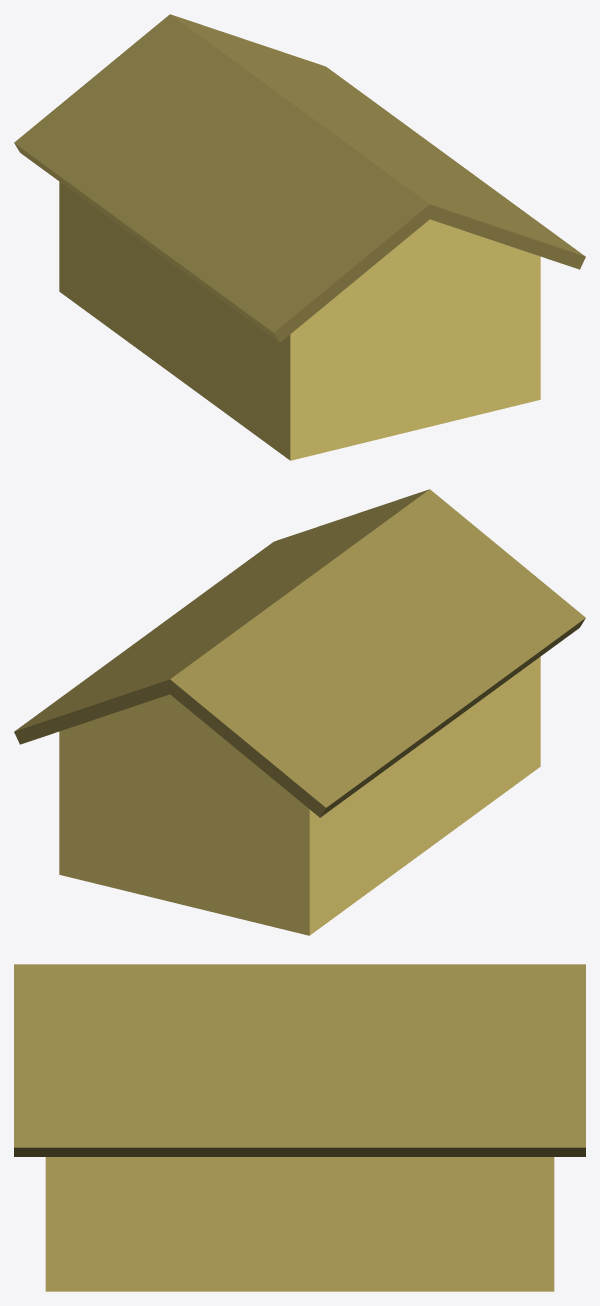
The model's file is result.glb.
3 renders of one model, top to bottom at view 1: azimuth 30°, elevation 25°; view 2: azimuth 150°, elevation 25°; view 3: azimuth 270°, elevation 25°, orthographic. The views are drawn at different scales.
Parts seen in each view (by area): view 1: c56918a5-b23b-46a8-a42c-6b06b266089d__undefined (×2), 870455a4-9649-4b2f-9685-bf3d6446c3de__undefined; view 2: c56918a5-b23b-46a8-a42c-6b06b266089d__undefined (×2), 870455a4-9649-4b2f-9685-bf3d6446c3de__undefined; view 3: c56918a5-b23b-46a8-a42c-6b06b266089d__undefined, 870455a4-9649-4b2f-9685-bf3d6446c3de__undefined.
Boxes of the visible parts, x1,y1,x2,y2 form: c56918a5-b23b-46a8-a42c-6b06b266089d__undefined (×2): [14, 14, 585, 342]; 870455a4-9649-4b2f-9685-bf3d6446c3de__undefined: [59, 182, 540, 460]; c56918a5-b23b-46a8-a42c-6b06b266089d__undefined (×2): [14, 489, 585, 817]; 870455a4-9649-4b2f-9685-bf3d6446c3de__undefined: [59, 657, 540, 935]; c56918a5-b23b-46a8-a42c-6b06b266089d__undefined: [14, 964, 585, 1156]; 870455a4-9649-4b2f-9685-bf3d6446c3de__undefined: [45, 1157, 554, 1291].
Size of the model in its own units: 624 by 452 by 900.
